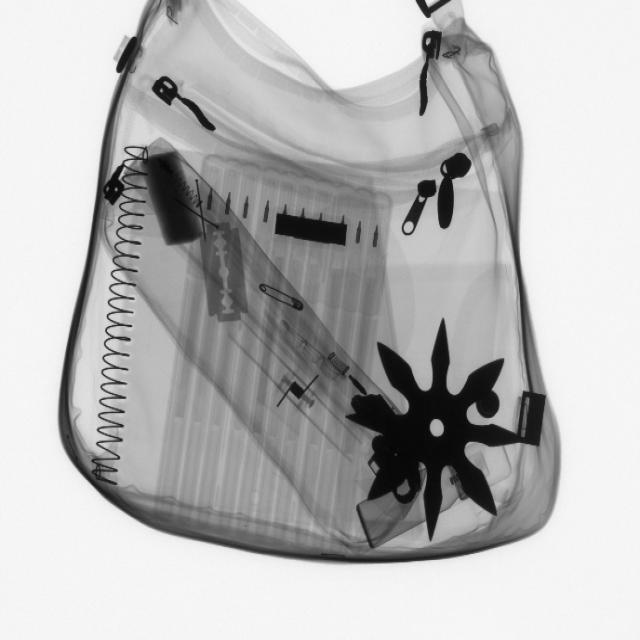BLADE: (197, 210, 256, 331)
SHURIKEN: (354, 315, 520, 545)
